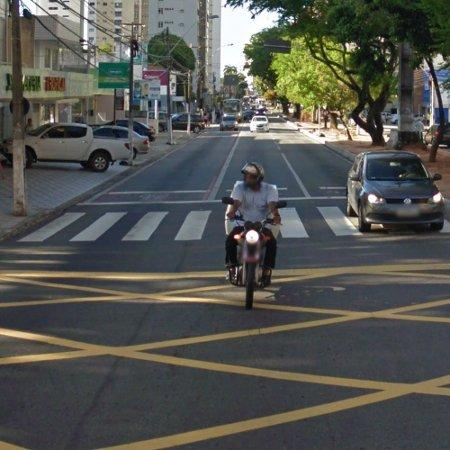crosswalks: (19, 210, 210, 242)
